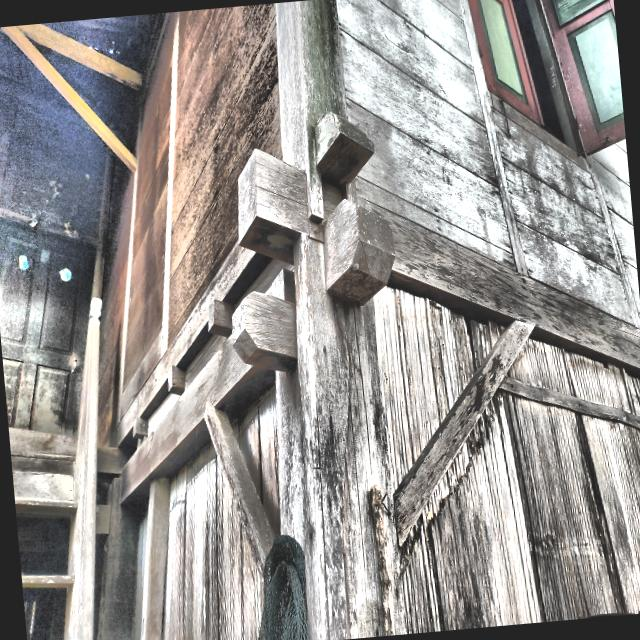door: (0, 219, 93, 435)
stair: (8, 298, 101, 640), (101, 525, 103, 529)
wall: (336, 0, 640, 330), (400, 339, 640, 633), (165, 3, 283, 349), (373, 284, 506, 495), (161, 444, 263, 640), (122, 12, 174, 394), (232, 383, 281, 536)
window: (468, 0, 625, 157)
